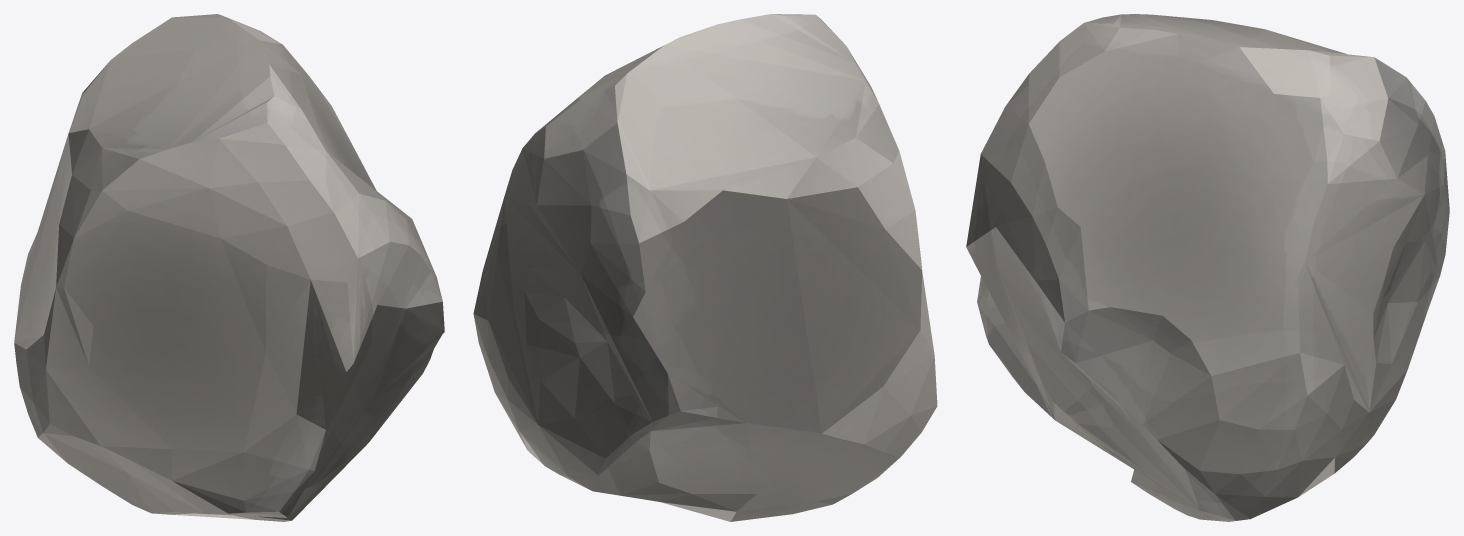
The model's file is rockA.glb.
The picture shows the model from 3 angles, left to right: view 1: azimuth 30°, elevation 25°; view 2: azimuth 150°, elevation 25°; view 3: azimuth 270°, elevation 25°; orthographic projection. The views are drawn at different scales.
Parts seen in each view (by area): view 1: Cube.001; view 2: Cube.001; view 3: Cube.001.
Boxes of the visible parts, <box> form: Cube.001: <box>14,14,444,521</box>; Cube.001: <box>473,14,937,521</box>; Cube.001: <box>966,14,1449,521</box>.
Size of the model in its own units: 2.77 by 3.13 by 2.93.
Materials: 1 (1 with a texture image).
